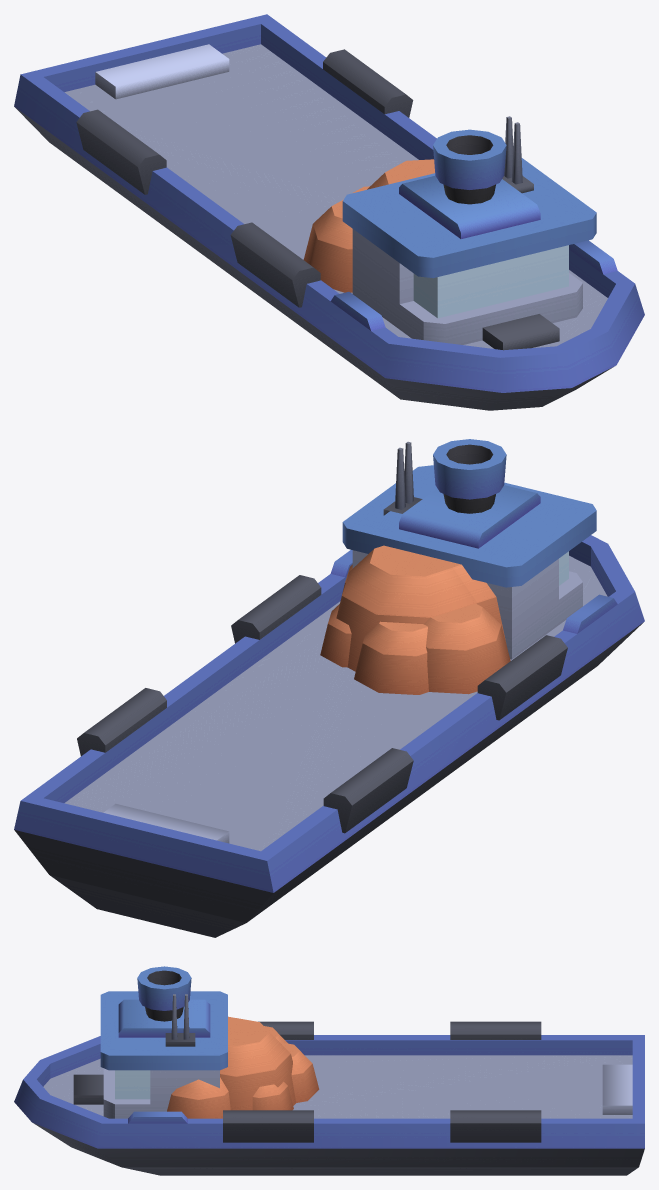
File: ship-cargo-b.glb
The picture shows the model from 3 angles, top to bottom: view 1: azimuth 30°, elevation 25°; view 2: azimuth 150°, elevation 25°; view 3: azimuth 270°, elevation 25°; orthographic projection. The views are drawn at different scales.
Visible parts, largest first — view 1: ship-cargo-b, ship-cargo-b.001, ship-cargo-b.002; view 2: ship-cargo-b, ship-cargo-b.002, ship-cargo-b.001; view 3: ship-cargo-b, ship-cargo-b.002, ship-cargo-b.001.
Boxes of the visible parts, x1=… form: ship-cargo-b: x1=14, y1=14, x2=644, y2=410; ship-cargo-b.001: x1=303, y1=171, x2=429, y2=292; ship-cargo-b.002: x1=352, y1=159, x2=434, y2=193; ship-cargo-b: x1=14, y1=439, x2=644, y2=937; ship-cargo-b.002: x1=336, y1=545, x2=477, y2=694; ship-cargo-b.001: x1=320, y1=547, x2=510, y2=694; ship-cargo-b: x1=14, y1=966, x2=644, y2=1175; ship-cargo-b.002: x1=167, y1=1018, x2=319, y2=1118; ship-cargo-b.001: x1=228, y1=1016, x2=293, y2=1110.
Bounding box in the file's own units: 13.32 × 11.22 × 35.87.
Materials: 1 (1 with a texture image).
